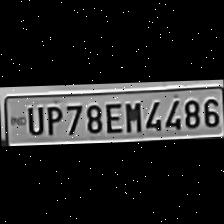4: (160, 94, 180, 130), (142, 96, 162, 130)
6: (199, 92, 219, 126)
7: (62, 100, 82, 135)
8: (180, 95, 200, 128), (82, 100, 102, 132)
E: (101, 98, 121, 132)
M: (122, 98, 142, 132)
P: (42, 100, 62, 134)
U: (22, 102, 44, 134)
